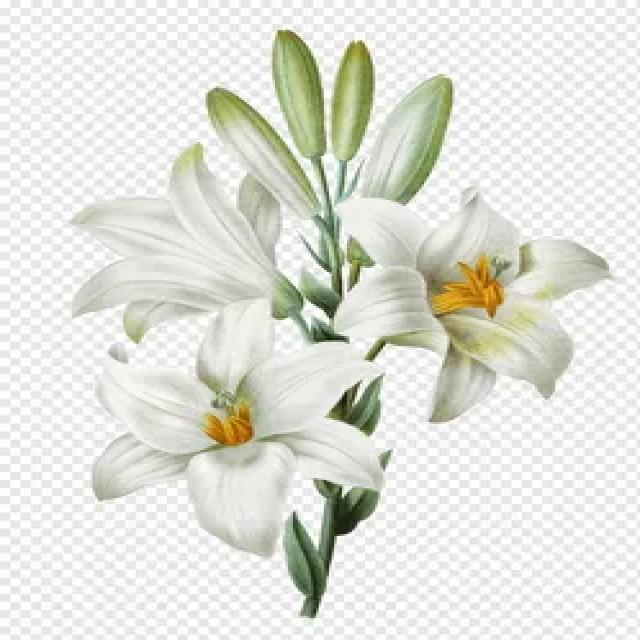lily: (91, 296, 406, 560)
